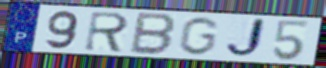5: (271, 19, 311, 62)
9: (44, 9, 80, 50)
B: (127, 11, 179, 57)
G: (176, 16, 222, 57)
J: (223, 17, 269, 60)
R: (81, 10, 131, 54)
